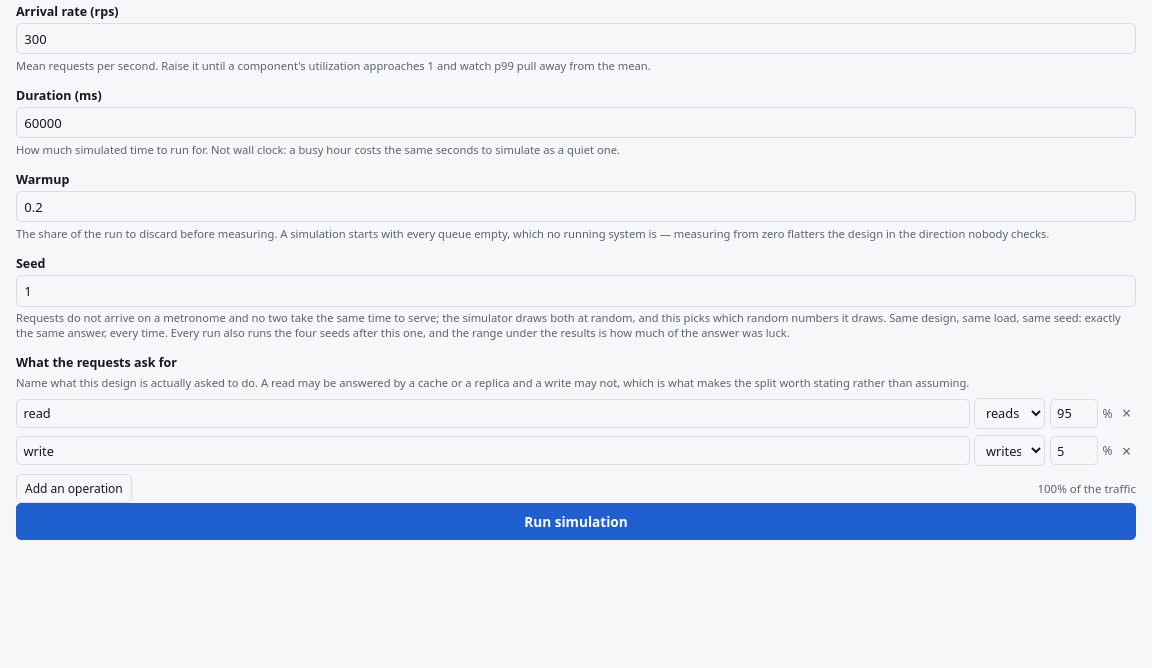
Test: SimulationPanel › reports what the run said
Click the button "Run simulation": {"x": 576, "y": 522} [16,503,1136,540]
(page scrolled)
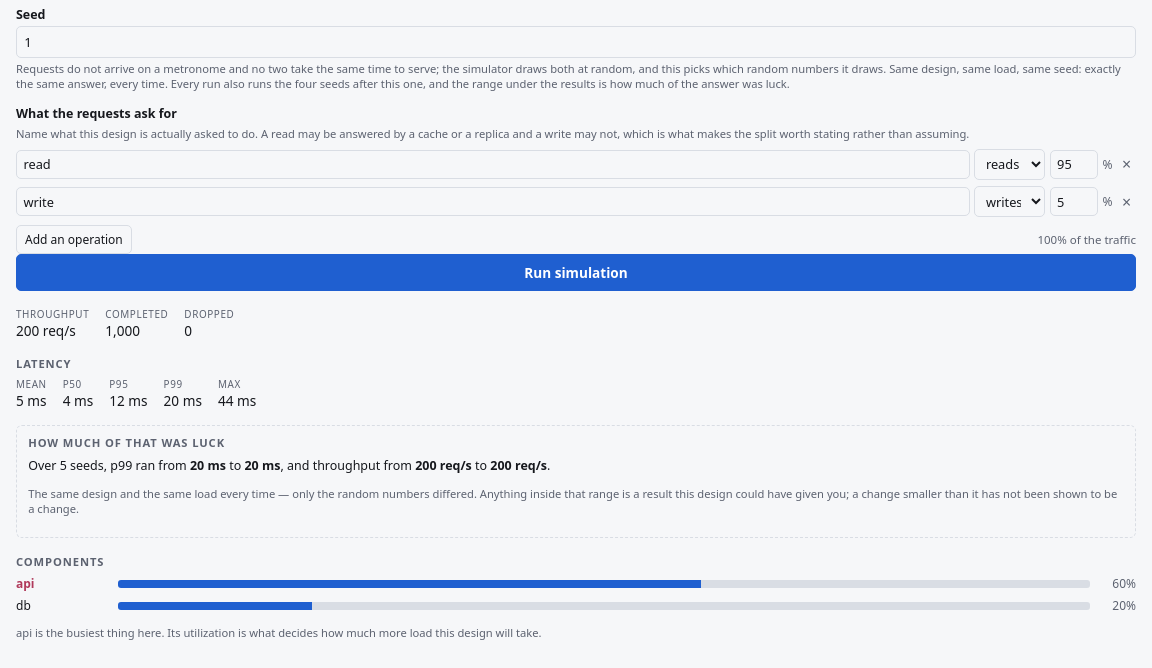
expect the element with class "results__headline" is shown: met, box [16,307,234,340]
expect the element with class "results__headline" shows "200 req/s": met, box [16,321,76,340]
expect the element with class "results__latency" shows "20 ms": met, box [164,391,202,410]
